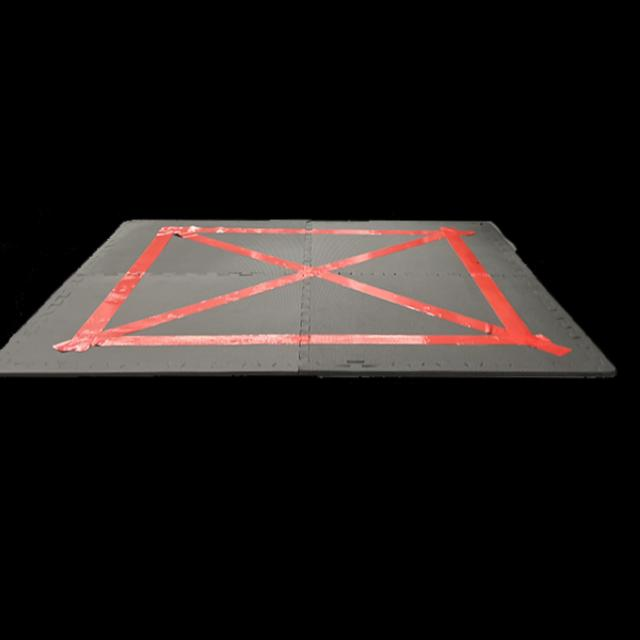landingPads: (0, 219, 628, 375)
